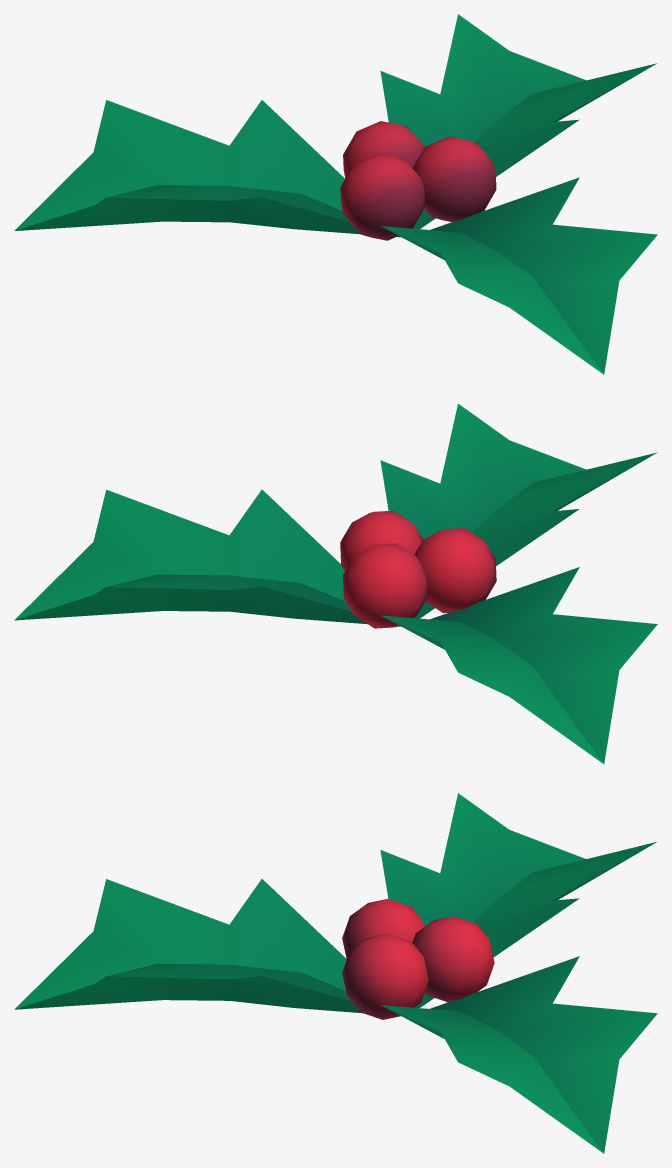
Rendered from mistletoe_B.fbx.
The picture shows the model from 3 angles, top to bottom: view 1: azimuth 30°, elevation 25°; view 2: azimuth 150°, elevation 25°; view 3: azimuth 270°, elevation 25°; orthographic projection.
Visible parts, largest first — view 1: mistletoe_B; view 2: mistletoe_B; view 3: mistletoe_B.
Part boxes in pixels (<box>): mistletoe_B: <box>14,14,657,374</box>; mistletoe_B: <box>14,403,657,764</box>; mistletoe_B: <box>14,793,657,1153</box>.
Bounding box in the file's own units: 99.34 × 15.39 × 93.88.
